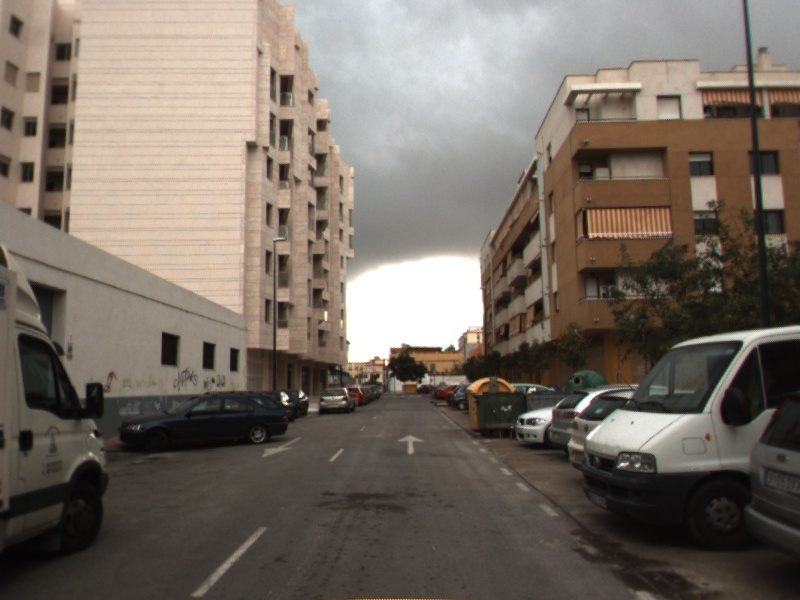STRAIGHT: (395, 431, 428, 457)
